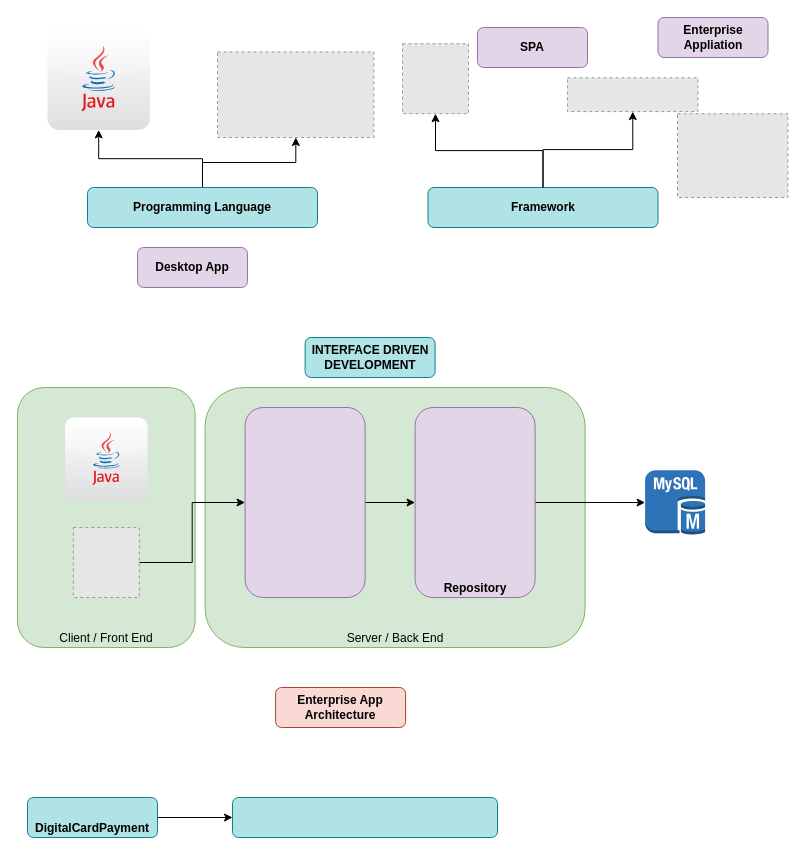
Image size: 806x855. Some labels were removed from this diagram. Grey dashed boxes stand in for pictures. The centre of each missing label's shape, as x and y in pixels:
"Client" goes at (x=106, y=458).
"DigitalCardPaymentImpl" goes at (x=365, y=817).
"Service" goes at (x=304, y=502).
